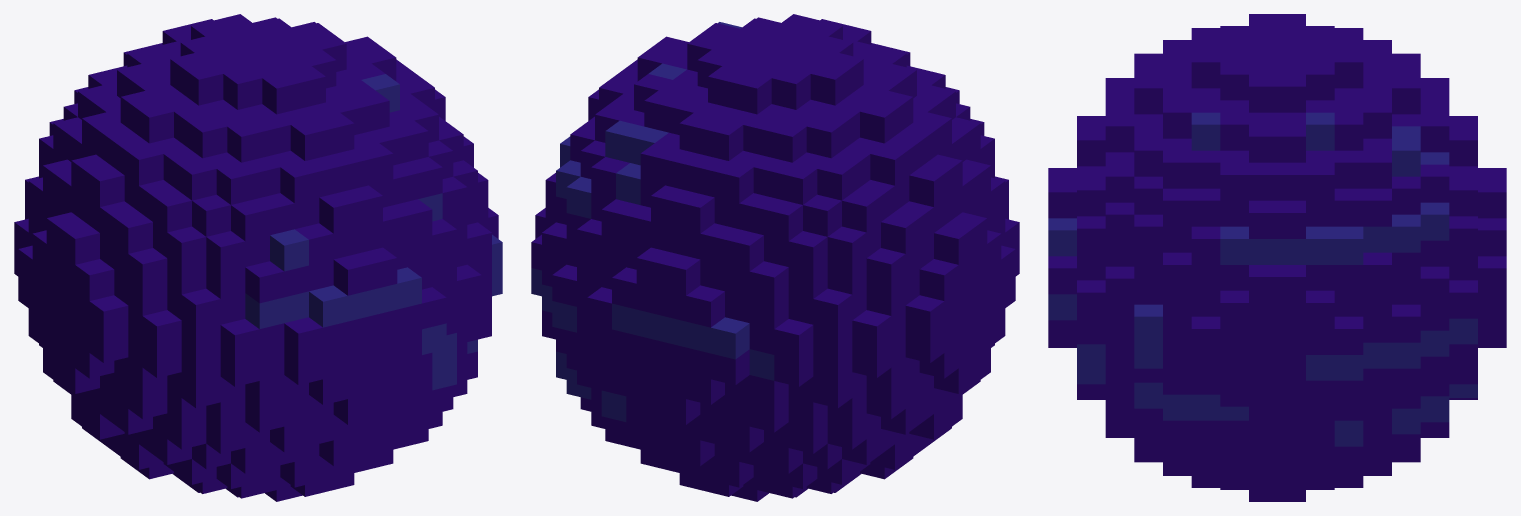
File: planetas-16-azulescuro (2).obj
The picture shows the model from 3 angles, left to right: view 1: azimuth 30°, elevation 25°; view 2: azimuth 150°, elevation 25°; view 3: azimuth 270°, elevation 25°; orthographic projection.
Bounding box in the file's own units: 1.6 × 1.6 × 1.6.
1 material, 1 textured.
